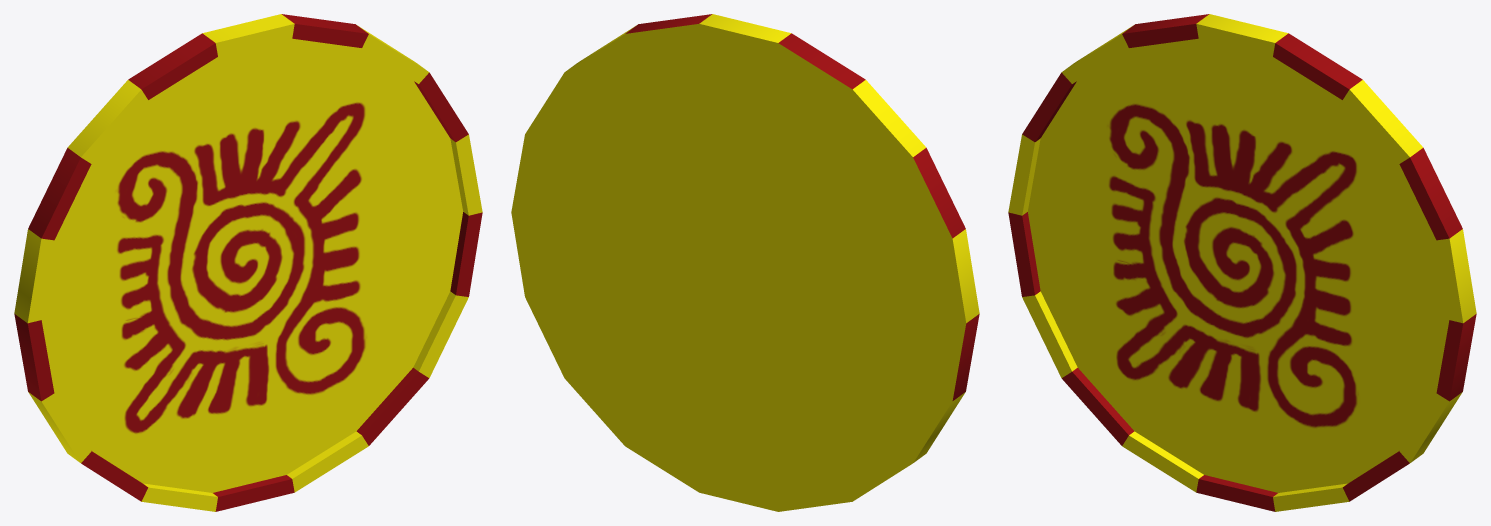
File: Sheild4.FBX
3 views of the same model, side by side, from view 1: azimuth 30°, elevation 25°; view 2: azimuth 150°, elevation 25°; view 3: azimuth 330°, elevation 25° (orthographic).
Parts seen in each view (by area): view 1: Sheild004; view 2: Sheild004; view 3: Sheild004.
Boxes of the visible parts, <box> form: Sheild004: <box>14,14,482,511</box>; Sheild004: <box>511,14,979,511</box>; Sheild004: <box>1008,14,1476,511</box>.
Size of the model in its own units: 17.81 by 17.54 by 0.9078.
